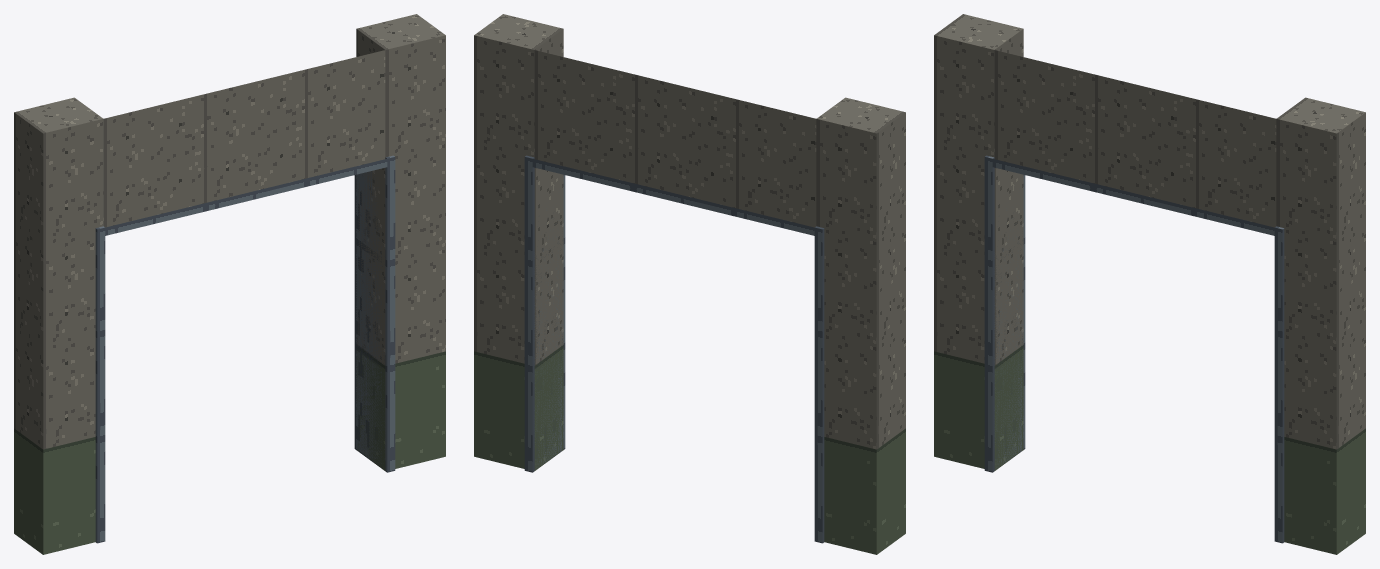
The model's file is opening_wide.glb.
3 renders of one model, left to right at view 1: azimuth 30°, elevation 25°; view 2: azimuth 150°, elevation 25°; view 3: azimuth 330°, elevation 25°, orthographic.
Parts seen in each view (by area): view 1: opening_wide mesh; view 2: opening_wide mesh; view 3: opening_wide mesh.
Part boxes in pixels (box(x1,y1,x2,y2)): opening_wide mesh: box(14, 14, 445, 554); opening_wide mesh: box(474, 14, 905, 554); opening_wide mesh: box(934, 14, 1365, 554).
Bounding box in the file's own units: 4 × 4 × 0.56.
Materials: 3 (3 with a texture image).
